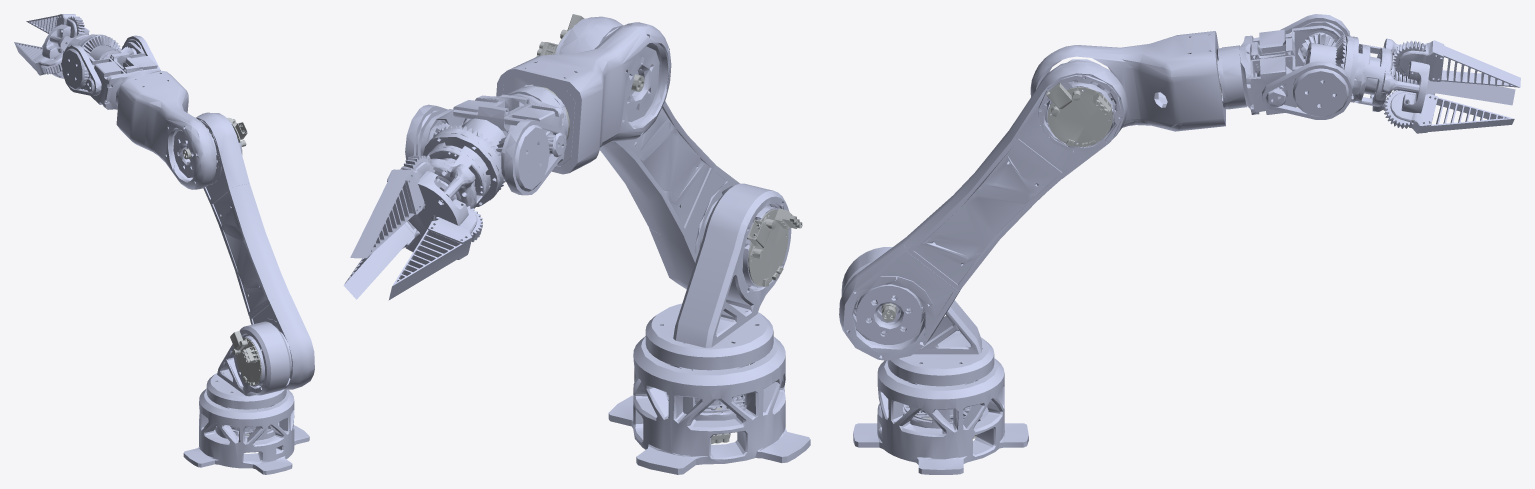
File: cyra-arm.glb
3 renders of one model, left to right at view 1: azimuth 30°, elevation 25°; view 2: azimuth 150°, elevation 25°; view 3: azimuth 270°, elevation 25°, orthographic. The views are drawn at different scales.
Parts seen in each view (by area): view 1: base_1.stp (×2), forearmMountBig, BaseHousingV5, 57545K759_Metal Worm Gear_57545K759 (×2), part (×2), 608ZZ; view 2: base_1.stp (×2), forearmMountBig, BaseHousingV5, 57545K759_Metal Worm Gear_57545K759 (×3), 608ZZ, part (×2); view 3: base_1.stp (×2), forearmMountBig, BaseHousingV5, 57545K759_Metal Worm Gear_57545K759 (×3), 608ZZ, part.
Part boxes in pixels (box(x1,y1,x2,y2)): base_1.stp (×2): box(173, 112, 314, 409); forearmMountBig: box(61, 34, 216, 189); BaseHousingV5: box(183, 388, 309, 474); 57545K759_Metal Worm Gear_57545K759 (×2): box(14, 14, 85, 75); part (×2): box(183, 117, 261, 385); 608ZZ: box(42, 24, 89, 78); base_1.stp (×2): box(555, 16, 791, 370); forearmMountBig: box(405, 22, 671, 206); BaseHousingV5: box(608, 336, 810, 474); 57545K759_Metal Worm Gear_57545K759 (×3): box(343, 155, 482, 300); 608ZZ: box(401, 142, 490, 251); part (×2): box(536, 14, 802, 286); base_1.stp (×2): box(839, 59, 1127, 386); forearmMountBig: box(1030, 14, 1358, 131); BaseHousingV5: box(853, 358, 1028, 474); 57545K759_Metal Worm Gear_57545K759 (×3): box(1383, 40, 1520, 133); 608ZZ: box(1351, 38, 1429, 113); part: box(1046, 83, 1112, 147).
Bounding box in the file's own units: 0.215 × 0.5458 × 0.8323.
